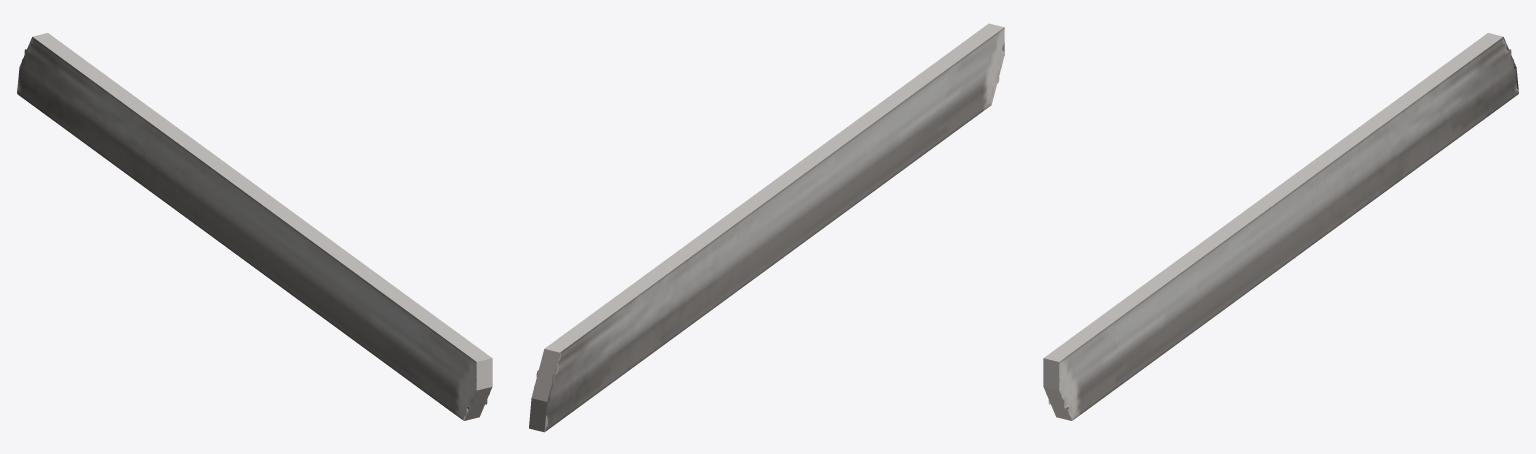
File: pz_native_fixtures_railings_01_73_frame.obj
3 views of the same model, side by side, from view 1: azimuth 30°, elevation 25°; view 2: azimuth 150°, elevation 25°; view 3: azimuth 330°, elevation 25° (orthographic).
Visible parts, largest first — view 1: pz_native_fixtures_railings_01_73_frame; view 2: pz_native_fixtures_railings_01_73_frame; view 3: pz_native_fixtures_railings_01_73_frame.
Part boxes in pixels (box(x1,y1,x2,y2)): pz_native_fixtures_railings_01_73_frame: box(17, 33, 492, 420); pz_native_fixtures_railings_01_73_frame: box(529, 23, 1004, 432); pz_native_fixtures_railings_01_73_frame: box(1043, 33, 1518, 420).
Bounding box in the file's own units: 0.045 × 0.2188 × 2.32.
1 material, 1 textured.
